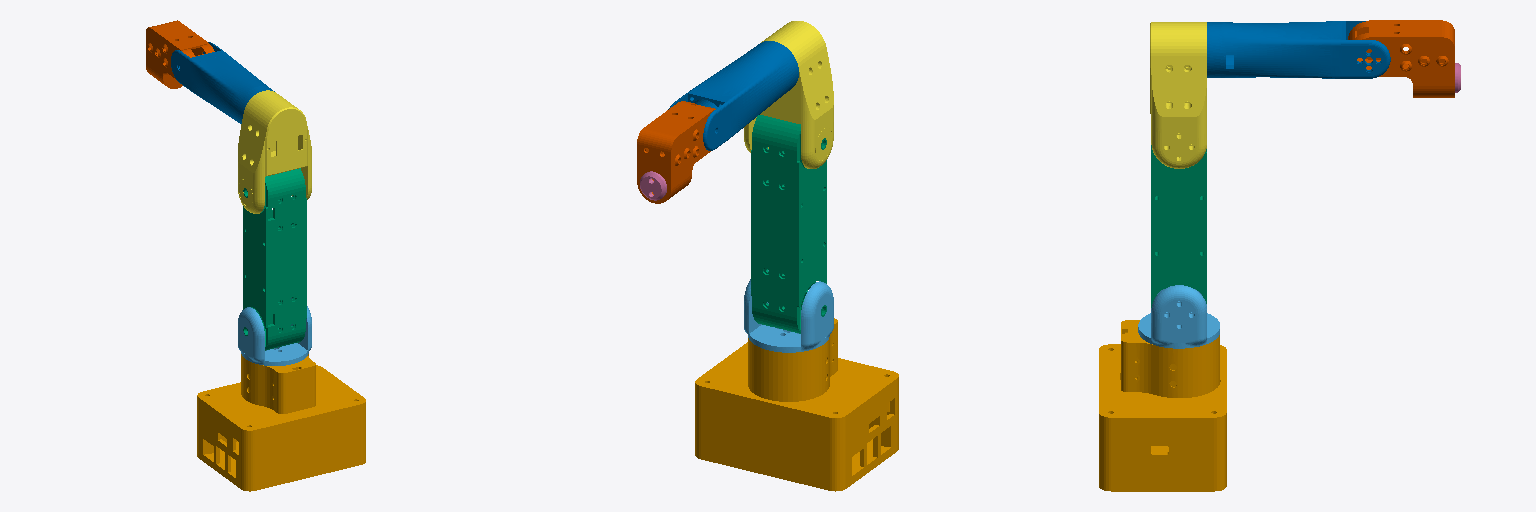
URDF robot description (Frames):
<?xml version="1.0" ?>
  <robot name="Frames" xmlns:xacro="http://www.ros.org/wiki/xacro">

  <link name="frames_base_link">
    <inertial>
      <origin xyz="0.0005040855085333166 -0.010273094086501193 0.03542491363637938" rpy="0 0 0"/>
      <mass value="1.5130327428354182"/>
      <inertia ixx="0.001983" iyy="0.002709" izz="0.002959" ixy="6e-06" iyz="-3.5e-05" ixz="3e-05"/>
    </inertial>
    <visual>
      <origin xyz="0 0 0" rpy="0 0 0"/>
      <geometry>
        <mesh filename="package://frames_description/meshes/frames_base_link.stl" scale="0.001 0.001 0.001"/>
      </geometry>
    </visual>
    <collision>
      <origin xyz="0 0 0" rpy="0 0 0"/>
      <geometry>
        <mesh filename="package://frames_description/meshes/frames_base_link.stl" scale="0.001 0.001 0.001"/>
      </geometry>
    </collision>
  </link>

  <link name="frames_link1">
    <inertial>
      <origin xyz="-3.404725774509886e-05 -2.1010427580299316e-11 0.013790395795608756" rpy="0 0 0"/>
      <mass value="0.18511181553011938"/>
      <inertia ixx="5e-05" iyy="0.000101" izz="9.7e-05" ixy="-0.0" iyz="-0.0" ixz="0.0"/>
    </inertial>
    <visual>
      <origin xyz="0.00055 0.0 -0.0886" rpy="0 0 0"/>
      <geometry>
        <mesh filename="package://frames_description/meshes/frames_link1.stl" scale="0.001 0.001 0.001"/>
      </geometry>
    </visual>
    <collision>
      <origin xyz="0.00055 0.0 -0.0886" rpy="0 0 0"/>
      <geometry>
        <mesh filename="package://frames_description/meshes/frames_link1.stl" scale="0.001 0.001 0.001"/>
      </geometry>
    </collision>
  </link>

  <link name="frames_link2">
    <inertial>
      <origin xyz="0.025124340773863555 0.00015918221692612635 0.06025458578533169" rpy="0 0 0"/>
      <mass value="0.37661185911242273"/>
      <inertia ixx="0.000699" iyy="0.000674" izz="0.000137" ixy="1e-06" iyz="0.0" ixz="0.0"/>
    </inertial>
    <visual>
      <origin xyz="0.02705 0.0 -0.1126" rpy="0 0 0"/>
      <geometry>
        <mesh filename="package://frames_description/meshes/frames_link2.stl" scale="0.001 0.001 0.001"/>
      </geometry>
    </visual>
    <collision>
      <origin xyz="0.02705 0.0 -0.1126" rpy="0 0 0"/>
      <geometry>
        <mesh filename="package://frames_description/meshes/frames_link2.stl" scale="0.001 0.001 0.001"/>
      </geometry>
    </collision>
  </link>

  <link name="frames_link3">
    <inertial>
      <origin xyz="0.02652087793939466 0.00010090442859749642 0.02719951130554263" rpy="0 0 0"/>
      <mass value="0.3445625469275287"/>
      <inertia ixx="0.000203" iyy="0.000289" izz="0.00017" ixy="0.0" iyz="0.0" ixz="0.0"/>
    </inertial>
    <visual>
      <origin xyz="0.02705 0.0 -0.2331" rpy="0 0 0"/>
      <geometry>
        <mesh filename="package://frames_description/meshes/frames_link3.stl" scale="0.001 0.001 0.001"/>
      </geometry>
    </visual>
    <collision>
      <origin xyz="0.02705 0.0 -0.2331" rpy="0 0 0"/>
      <geometry>
        <mesh filename="package://frames_description/meshes/frames_link3.stl" scale="0.001 0.001 0.001"/>
      </geometry>
    </collision>
  </link>

  <link name="frames_link4">
    <inertial>
      <origin xyz="-1.518206498092329e-06 0.04461577742036456 1.3239624671035344e-06" rpy="0 0 0"/>
      <mass value="0.39024457935082074"/>
      <inertia ixx="0.000389" iyy="9.2e-05" izz="0.000401" ixy="-3e-06" iyz="-0.0" ixz="-0.0"/>
    </inertial>
    <visual>
      <origin xyz="0.00055 -0.01825 -0.29035" rpy="0 0 0"/>
      <geometry>
        <mesh filename="package://frames_description/meshes/frames_link4.stl" scale="0.001 0.001 0.001"/>
      </geometry>
    </visual>
    <collision>
      <origin xyz="0.00055 -0.01825 -0.29035" rpy="0 0 0"/>
      <geometry>
        <mesh filename="package://frames_description/meshes/frames_link4.stl" scale="0.001 0.001 0.001"/>
      </geometry>
    </collision>
  </link>

  <link name="frames_link5">
    <inertial>
      <origin xyz="0.012643550717544487 0.02709385501657724 -0.003236084058836186" rpy="0 0 0"/>
      <mass value="0.07930924998218244"/>
      <inertia ixx="5e-05" iyy="2.4e-05" izz="4.2e-05" ixy="-1e-06" iyz="4e-06" ixz="0.0"/>
    </inertial>
    <visual>
      <origin xyz="0.01505 -0.12345 -0.29035" rpy="0 0 0"/>
      <geometry>
        <mesh filename="package://frames_description/meshes/frames_link5.stl" scale="0.001 0.001 0.001"/>
      </geometry>
    </visual>
    <collision>
      <origin xyz="0.01505 -0.12345 -0.29035" rpy="0 0 0"/>
      <geometry>
        <mesh filename="package://frames_description/meshes/frames_link5.stl" scale="0.001 0.001 0.001"/>
      </geometry>
    </collision>
  </link>

  <link name="frames_link6">
    <inertial>
      <origin xyz="2.1560285923477931e-07 0.0018489662859189626 6.665609375566817e-08" rpy="0 0 0"/>
      <mass value="0.007968295840693102"/>
      <inertia ixx="0.0" iyy="0.0" izz="0.0" ixy="0.0" iyz="-0.0" ixz="0.0"/>
    </inertial>
    <visual>
      <origin xyz="0.00205 -0.17915 -0.26985" rpy="0 0 0"/>
      <geometry>
        <mesh filename="package://frames_description/meshes/frames_link6.stl" scale="0.001 0.001 0.001"/>
      </geometry>
    </visual>
    <collision>
      <origin xyz="0.00205 -0.17915 -0.26985" rpy="0 0 0"/>
      <geometry>
        <mesh filename="package://frames_description/meshes/frames_link6.stl" scale="0.001 0.001 0.001"/>
      </geometry>
    </collision>
  </link>

  <joint name="frames_joint1" type="revolute">
    <origin xyz="-0.00055 0.0 0.0886" rpy="0 0 0"/>
    <parent link="frames_base_link"/>
    <child link="frames_link1"/>
    <axis xyz="0.0 -0.0 -1.0"/>
    <limit effort="87" lower="-1.57" upper="1.57" velocity="2.3925" />
  </joint>

  <joint name="frames_joint2" type="revolute">
    <origin xyz="-0.0265 0.0 0.024" rpy="0 0 0"/>
    <parent link="frames_link1"/>
    <child link="frames_link2"/>
    <axis xyz="1.0 0.0 0.0"/>
    <limit effort="87" lower="-1.57" upper="1.57" velocity="2.3925" />
  </joint>

  <joint name="frames_joint3" type="revolute">
    <origin xyz="0.0 0.0 0.1205" rpy="0 0 0"/>
    <parent link="frames_link2"/>
    <child link="frames_link3"/>
    <axis xyz="1.0 0.0 0.0"/>
    <limit effort="87" lower="-1.57" upper="1.57" velocity="2.3925" />
  </joint>

  <joint name="frames_joint4" type="revolute">
    <origin xyz="0.0265 0.01825 0.05725" rpy="0 0 0"/>
    <parent link="frames_link3"/>
    <child link="frames_link4"/>
    <axis xyz="0.0 -1.0 -0.0"/>
    <limit effort="87" lower="-1.57" upper="1.57" velocity="2.3925" />
  </joint>

  <joint name="frames_joint5" type="revolute">
    <origin xyz="-0.0145 0.1052 0.0" rpy="0 0 0"/>
    <parent link="frames_link4"/>
    <child link="frames_link5"/>
    <axis xyz="1.0 -0.0 -0.0"/>
    <limit effort="87" lower="-1.57" upper="1.57" velocity="2.3925" />
  </joint>

  <joint name="frames_joint6" type="revolute">
    <origin xyz="0.013 0.0557 -0.0205" rpy="0 0 0"/>
    <parent link="frames_link5"/>
    <child link="frames_link6"/>
    <axis xyz="-0.0 -1.0 0.0"/>
    <limit effort="87" lower="-1.57" upper="1.57" velocity="2.3925" />
  </joint>
</robot>

--- Render facts (derived) ---
3 views of the same robot in one strip: view 1: azimuth 30°, elevation 25°; view 2: azimuth 150°, elevation 25°; view 3: azimuth 270°, elevation 25° (orthographic).
Robot: Frames — 7 links, 6 joints (6 revolute); root link frames_base_link; default pose: all joints at 0.
Visible links, largest first — view 1: frames_base_link, frames_link2, frames_link3, frames_link4, frames_link5, frames_link1; view 2: frames_base_link, frames_link2, frames_link4, frames_link3, frames_link5, frames_link1, frames_link6; view 3: frames_base_link, frames_link4, frames_link3, frames_link2, frames_link5, frames_link1.
Link boxes in pixels (x1=…): frames_base_link: x1=197, y1=354, x2=365, y2=491; frames_link2: x1=243, y1=168, x2=306, y2=350; frames_link3: x1=238, y1=90, x2=311, y2=213; frames_link4: x1=171, y1=42, x2=274, y2=123; frames_link5: x1=146, y1=20, x2=214, y2=88; frames_link1: x1=238, y1=298, x2=311, y2=365; frames_base_link: x1=695, y1=318, x2=898, y2=491; frames_link2: x1=751, y1=115, x2=826, y2=333; frames_link4: x1=668, y1=41, x2=798, y2=150; frames_link3: x1=744, y1=21, x2=833, y2=168; frames_link5: x1=637, y1=101, x2=715, y2=203; frames_link1: x1=744, y1=270, x2=833, y2=352; frames_link6: x1=640, y1=171, x2=666, y2=200; frames_base_link: x1=1099, y1=320, x2=1226, y2=491; frames_link4: x1=1207, y1=21, x2=1390, y2=78; frames_link3: x1=1150, y1=22, x2=1206, y2=168; frames_link2: x1=1151, y1=145, x2=1206, y2=307; frames_link5: x1=1348, y1=20, x2=1454, y2=97; frames_link1: x1=1138, y1=285, x2=1219, y2=348.
Bounding box of the posed robot: 0.113 × 0.2354 × 0.3086 m (x, y, z).
Meshes: 7 distinct files referenced, 7 mesh visuals loaded (7 binary STL).